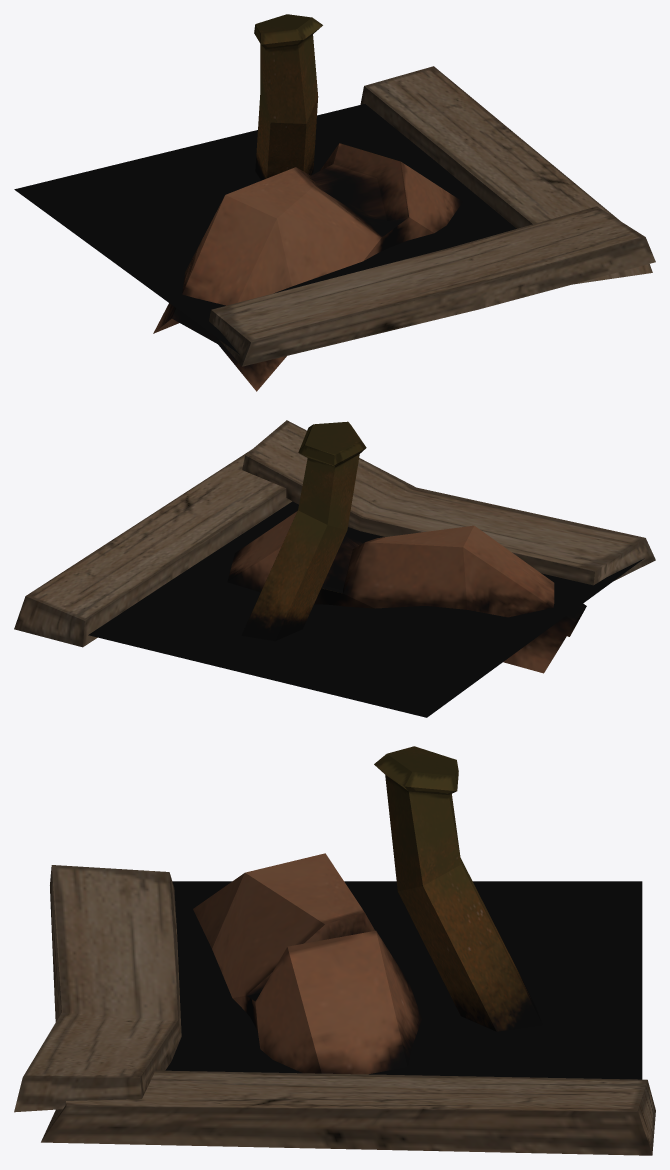
Rendered from pitFall_cornerClosed.fbx.
3 renders of one model, top to bottom at view 1: azimuth 30°, elevation 25°; view 2: azimuth 150°, elevation 25°; view 3: azimuth 270°, elevation 25°, orthographic. The views are drawn at different scales.
Visible parts, largest first — view 1: pitFall_cornerClosed; view 2: pitFall_cornerClosed; view 3: pitFall_cornerClosed.
Boxes of the visible parts, left/top/right/bottom form: pitFall_cornerClosed: left=14, top=14, right=655, bottom=391; pitFall_cornerClosed: left=14, top=420, right=655, bottom=717; pitFall_cornerClosed: left=14, top=746, right=655, bottom=1155.
Size of the model in its own units: 86.86 by 50.34 by 88.51.
